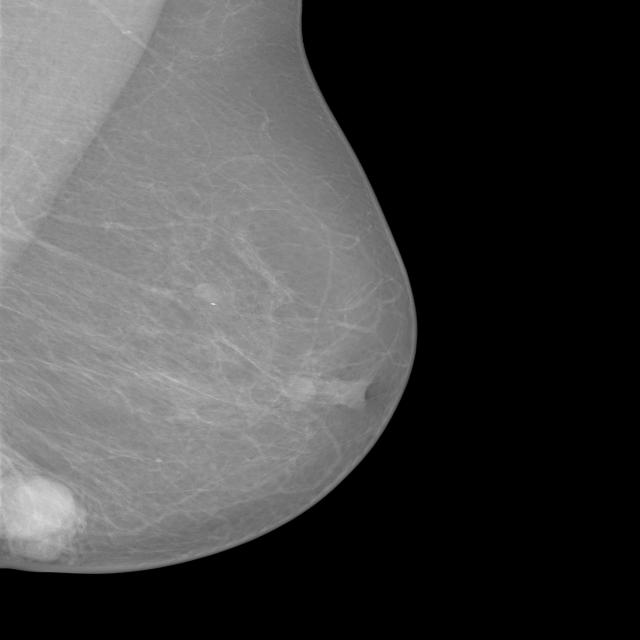Mass_1: (1, 451, 107, 577)
